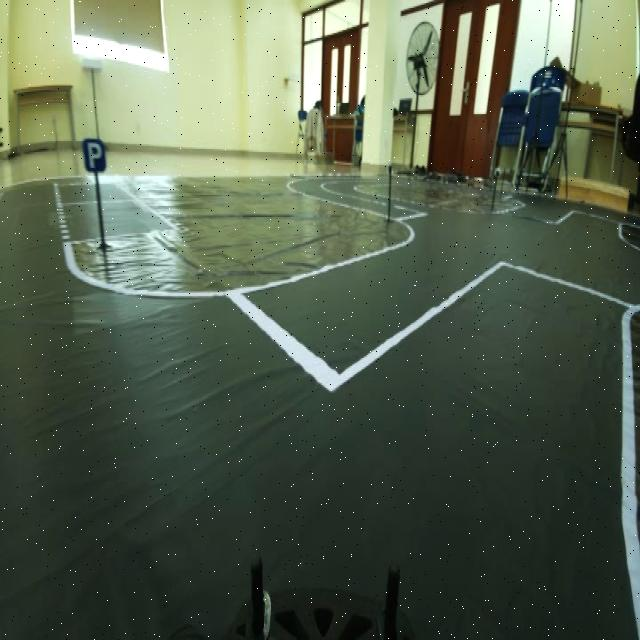parking: (78, 132, 112, 178)
